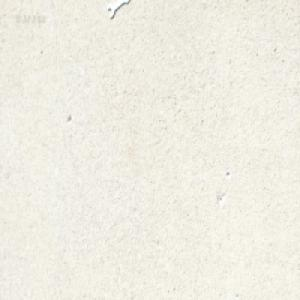Wrench: (108, 0, 130, 19)
